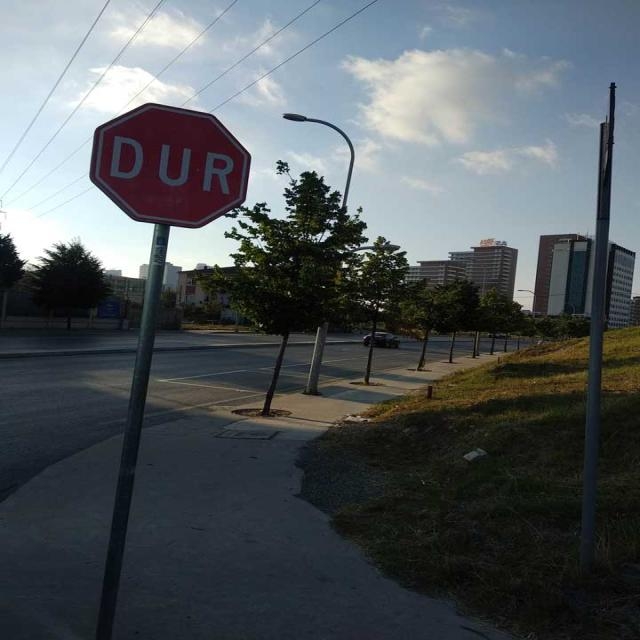dur: (90, 102, 253, 228)
